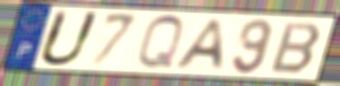7: (90, 11, 141, 70)
9: (231, 16, 276, 76)
A: (170, 18, 226, 72)
B: (267, 20, 324, 76)
Q: (135, 13, 186, 72)
U: (35, 8, 104, 68)
